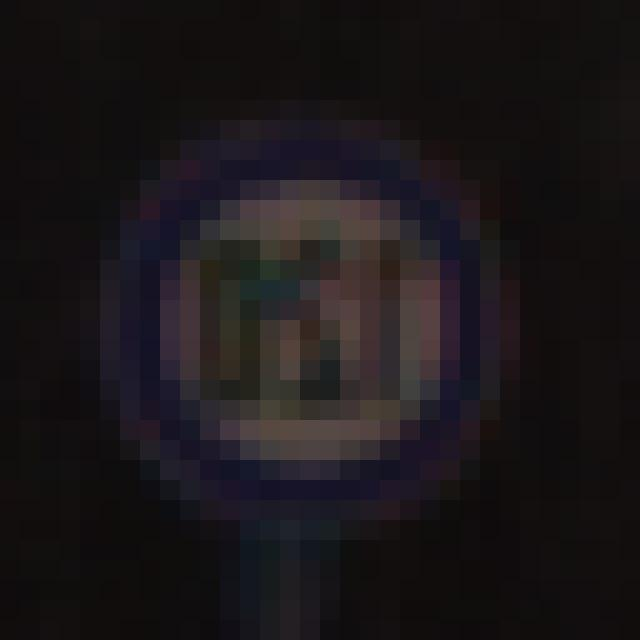SPEED LIMIT 120: (89, 123, 512, 503)
